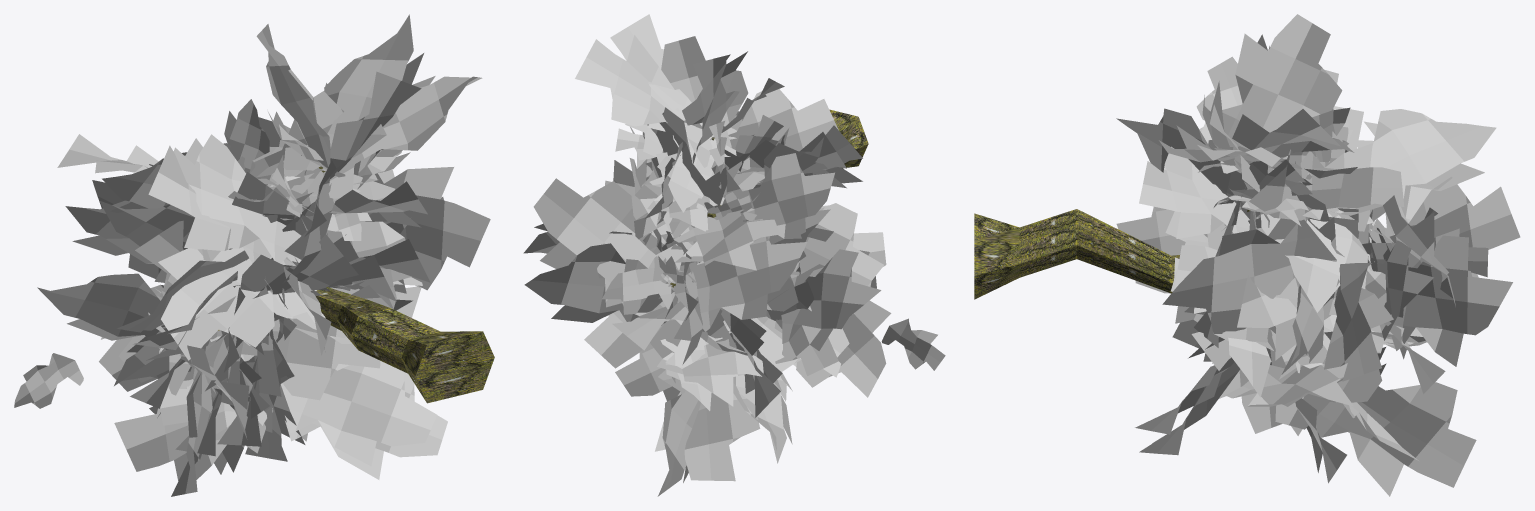
File: tree low.fbx
3 views of the same model, side by side, from view 1: azimuth 30°, elevation 25°; view 2: azimuth 150°, elevation 25°; view 3: azimuth 270°, elevation 25° (orthographic). The views are drawn at different scales.
Parts seen in each view (by area): view 1: Tree Branch; view 2: Tree Branch; view 3: Tree Branch.
Part boxes in pixels (box(x1,y1,x2,y2)): Tree Branch: box(14, 14, 494, 496); Tree Branch: box(523, 14, 945, 496); Tree Branch: box(974, 14, 1520, 496).
Size of the model in its own units: 1355 by 1366 by 1415.
